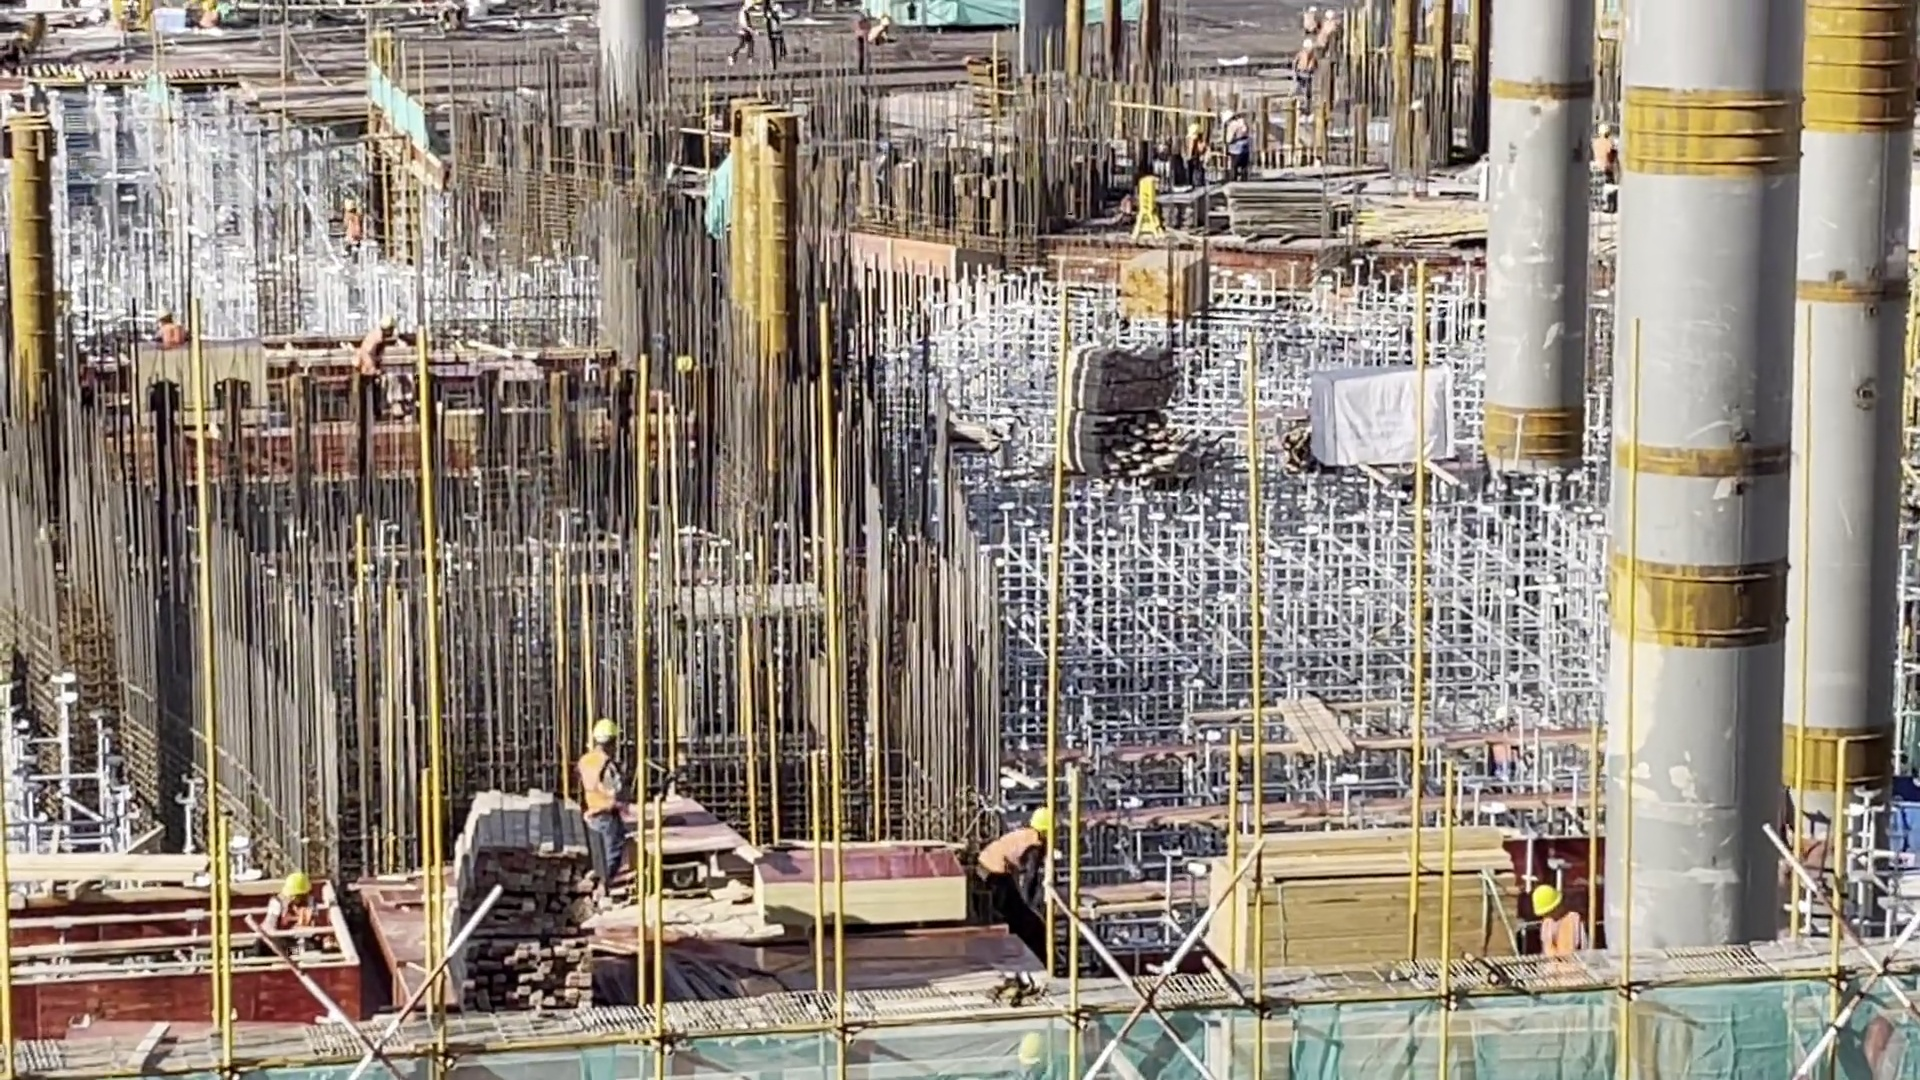helmet: (1518, 876, 1574, 919), (277, 857, 314, 905), (1028, 805, 1069, 839), (584, 712, 622, 746)
person: (558, 712, 643, 920), (969, 798, 1064, 946), (1517, 871, 1604, 969), (256, 857, 328, 965)
vest: (578, 745, 628, 826), (980, 826, 1043, 875), (1530, 912, 1593, 952)
wood: (1203, 787, 1523, 1001), (437, 774, 615, 1020)
